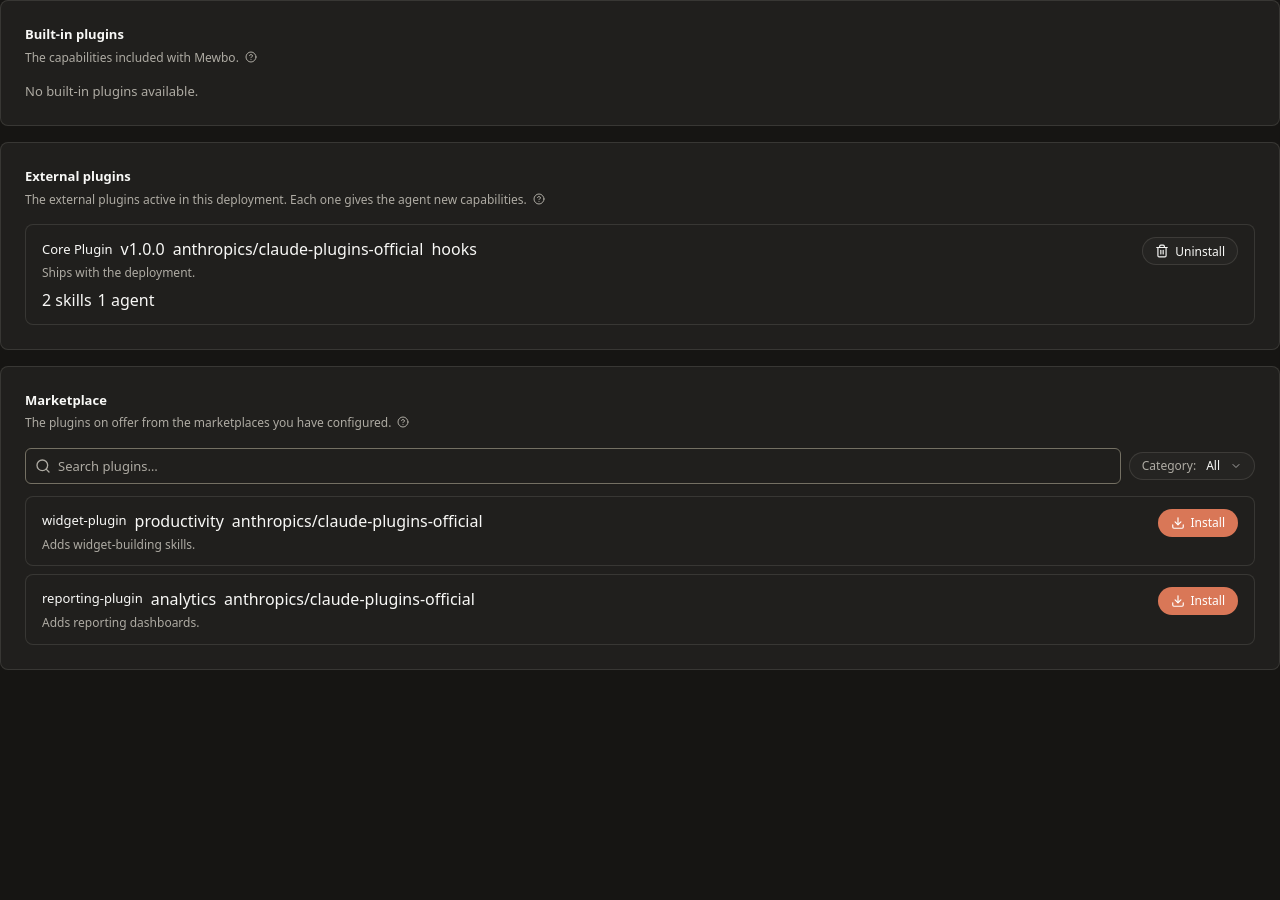
Scenario: marketplace search filters the list
Expected: the text "widget-plugin" is shown, [42,511,126,530]
Expected: the text "reporting-plugin" is shown, [42,589,143,609]
Type "widget" into the search field with placeholder "Search plugins…" at (573, 466), box [25,448,1121,484]
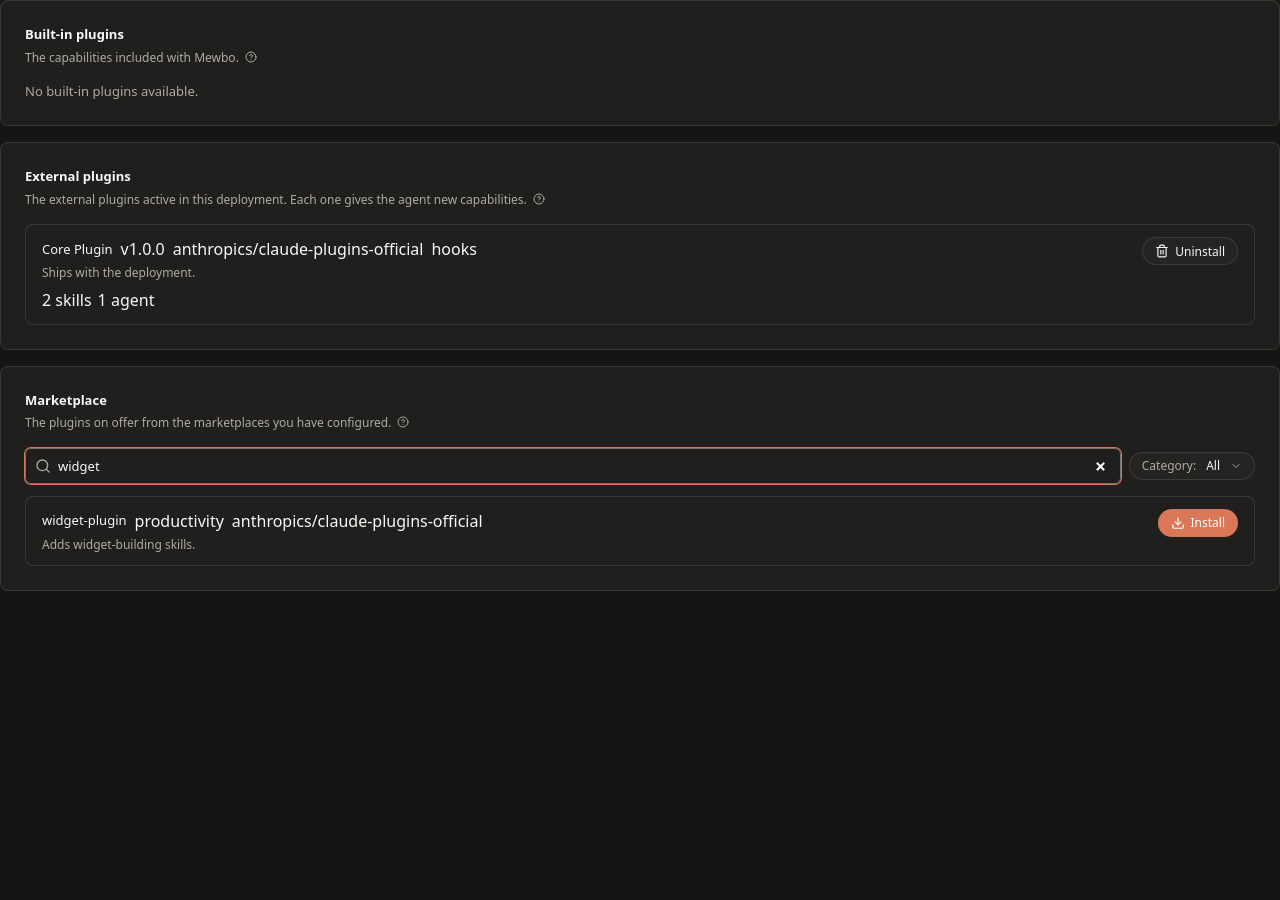
Expected: the text "widget-plugin" is shown, [42,511,126,530]
Expected: the text "reporting-plugin" is gone
